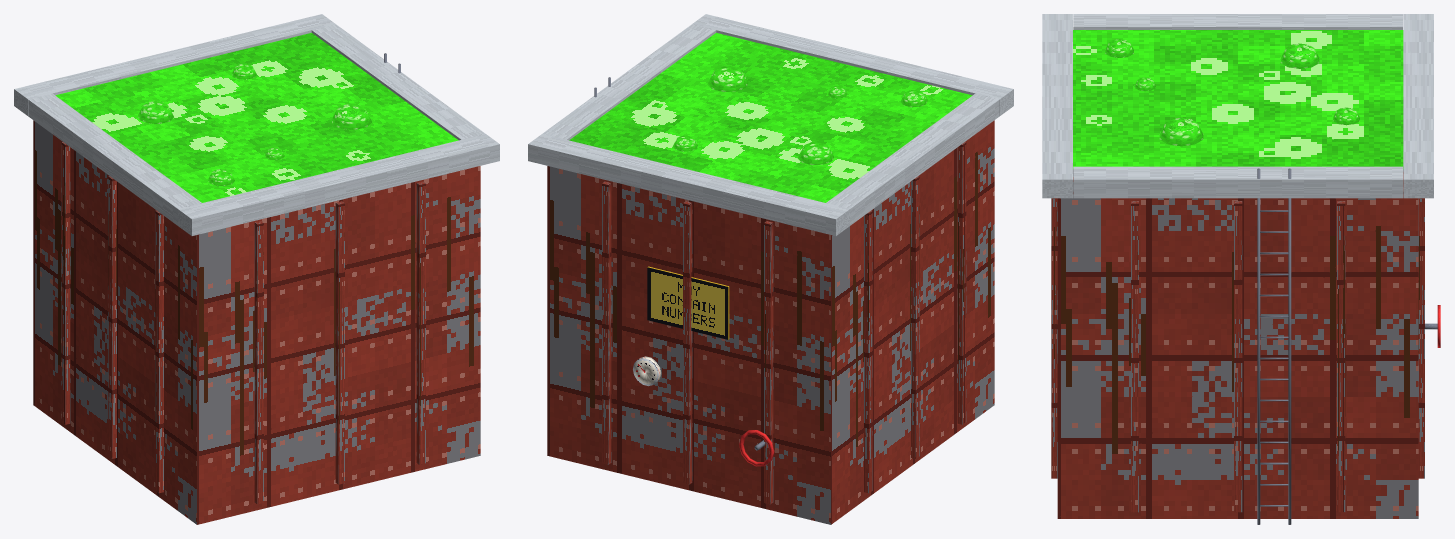
File: p_jb_vat.glb
3 renders of one model, left to right at view 1: azimuth 30°, elevation 25°; view 2: azimuth 150°, elevation 25°; view 3: azimuth 270°, elevation 25°, orthographic. The views are drawn at different scales.
Visible parts, largest first — view 1: p_jb_vat_lod0; view 2: p_jb_vat_lod0; view 3: p_jb_vat_lod0.
Part boxes in pixels (<box>): p_jb_vat_lod0: <box>14,14,499,524</box>; p_jb_vat_lod0: <box>528,14,1013,524</box>; p_jb_vat_lod0: <box>1042,14,1440,524</box>.
Size of what is drawn, in the model's own units: 7.6 by 7.67 by 7.73.
Materials: 2 (2 with a texture image).
